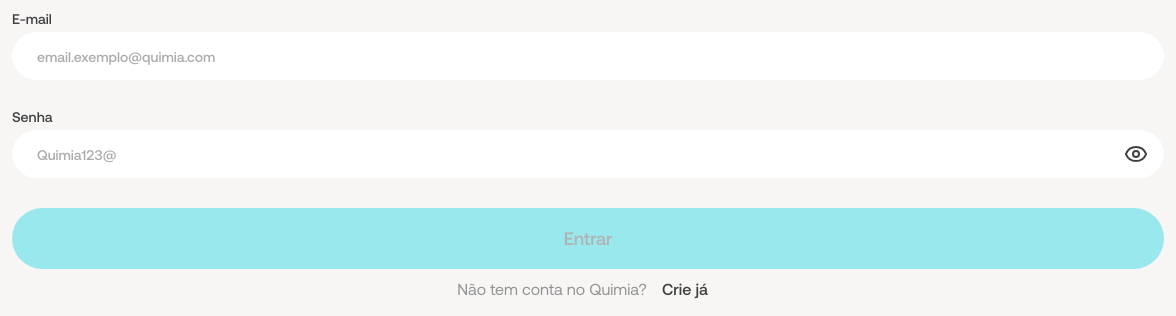
LoginForm › enables submit only after every input has a value
Expected: the button "Entrar" is disabled, [12,208,1164,269]
Type "user@example.com" into the field labelled "E-mail".
click(588, 56); type("user@example.com")  # box [13,33,1163,79]
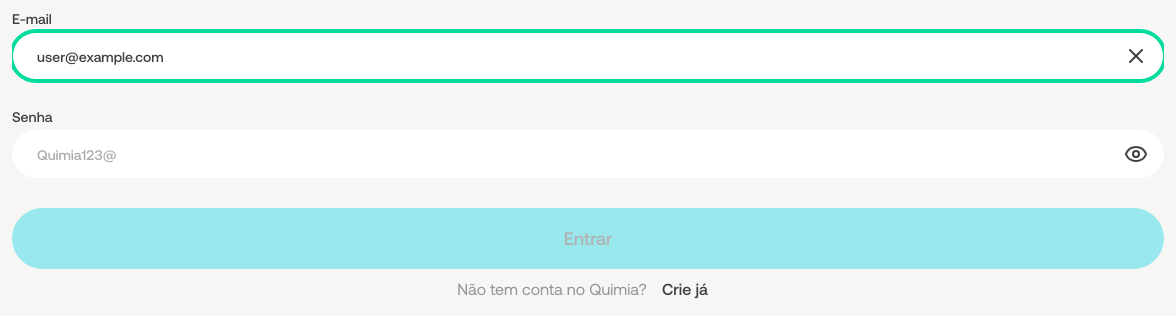
Expected: the button "Entrar" is disabled, [12,208,1164,269]
Type "secret" into the password field labelled "Senha".
click(566, 154); type("secret")  # box [13,131,1120,177]
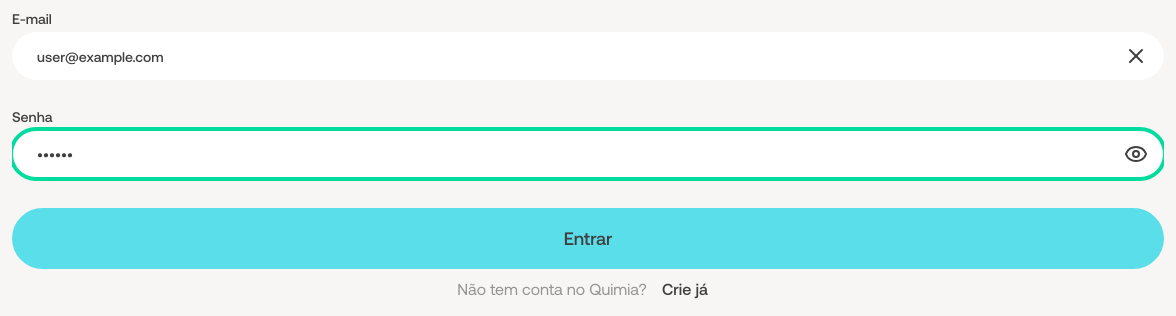
Now the button "Entrar" is enabled, box [12,208,1164,269]
